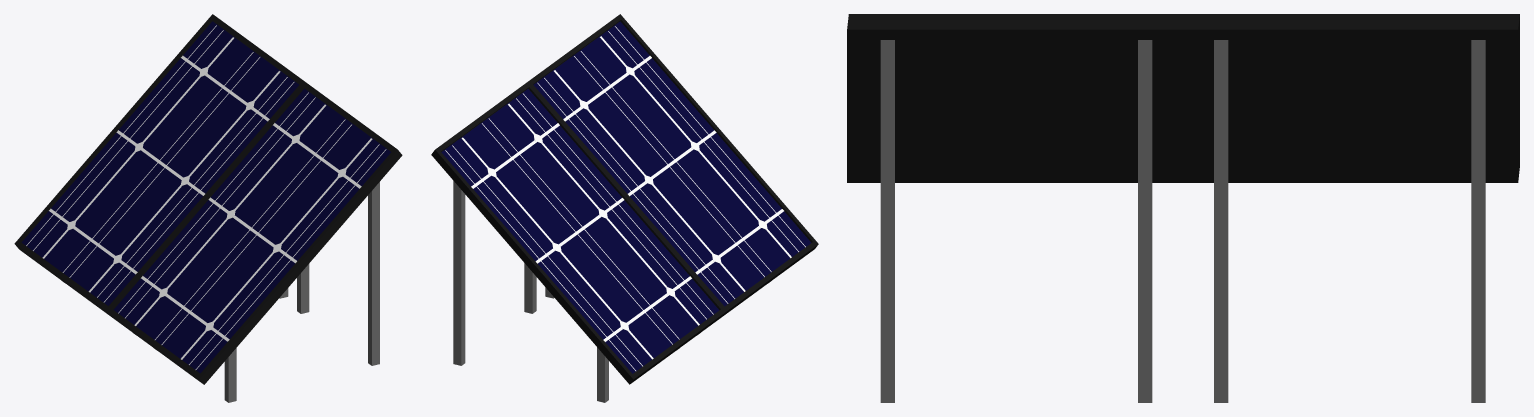
The model's file is Solar Panel 2.FBX.
3 renders of one model, left to right at view 1: azimuth 30°, elevation 25°; view 2: azimuth 150°, elevation 25°; view 3: azimuth 270°, elevation 25°, orthographic. The views are drawn at different scales.
Parts seen in each view (by area): view 1: Box001; view 2: Box001; view 3: Box001.
Part boxes in pixels (x1=…): Box001: x1=14, y1=14, x2=402, y2=402; Box001: x1=431, y1=14, x2=818, y2=402; Box001: x1=847, y1=14, x2=1519, y2=402.
Bounding box in the file's own units: 18.55 × 19.31 × 29.42.
